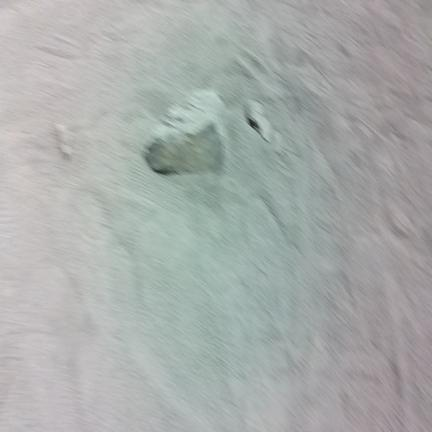Rock: (145, 90, 226, 174), (245, 101, 273, 142), (54, 124, 73, 158)
